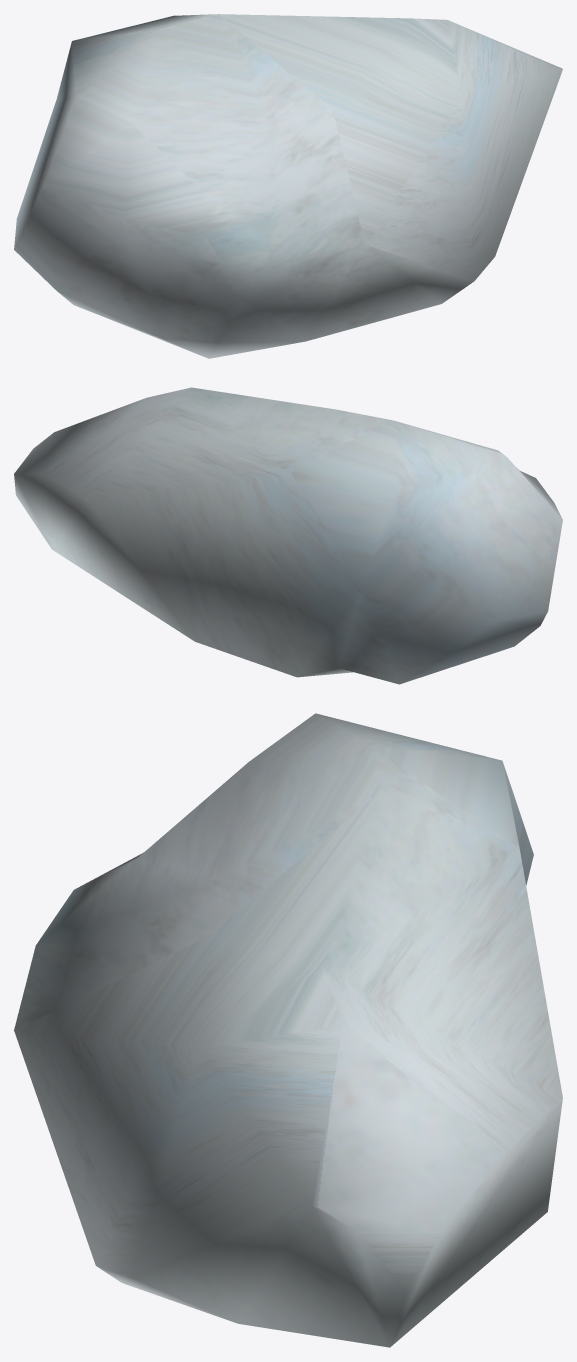
The model's file is P_RockDesert_Rock06.obj.
The picture shows the model from 3 angles, top to bottom: view 1: azimuth 30°, elevation 25°; view 2: azimuth 150°, elevation 25°; view 3: azimuth 270°, elevation 25°; orthographic projection. The views are drawn at different scales.
Bounding box in the file's own units: 0.9782 × 0.5055 × 0.5605.
